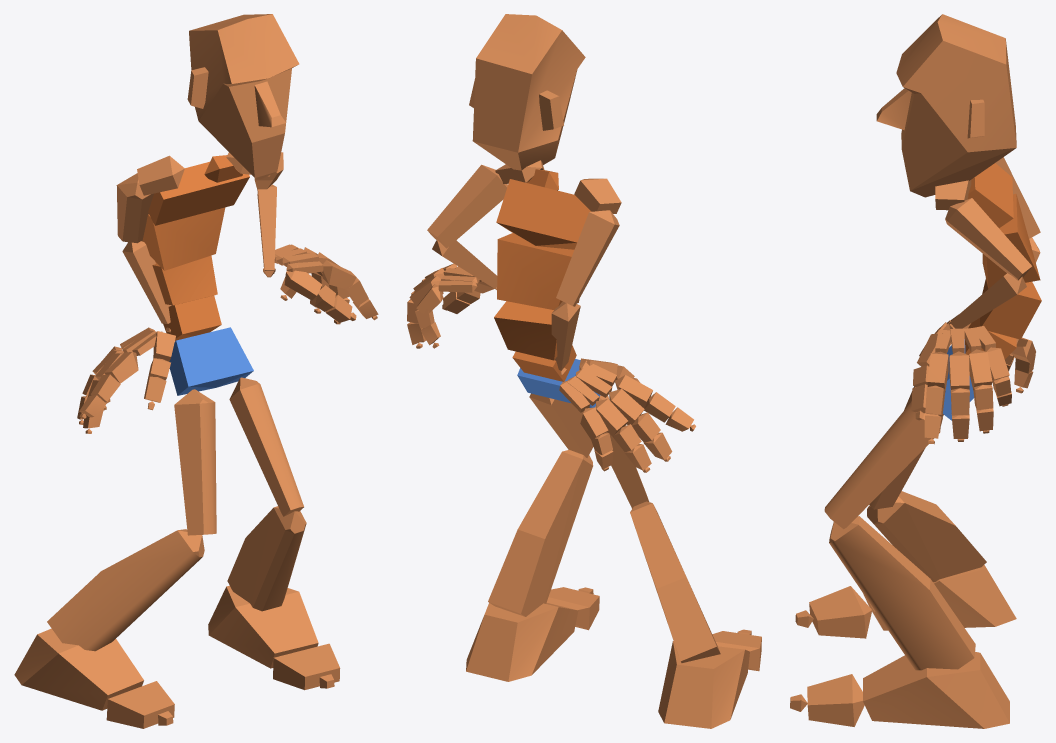
File: personaje38.obj
3 views of the same model, side by side, from view 1: azimuth 30°, elevation 25°; view 2: azimuth 150°, elevation 25°; view 3: azimuth 270°, elevation 25° (orthographic). The views are drawn at different scales.
Visible parts, largest first — view 1: BOPED_Head, BOPED_R_leg, BOPED_R_foot, BOPED_R_foot01, BOPED_L_leg, BOPED_R_legup, BOPED_L_legup, Bone01, Bone04, Bone05, Bone03, BOPED_R_foot_toe01 (+10 smaller); view 2: BOPED_Head, BOPED_L_leg, BOPED_R_foot01, BOPED_R_foot, BOPED_R_leg, Bone05, Bone04, BOPED_L_arm_upper, BOPED_R_arm_upper, Bone03, BOPED_L_legup, BOPED_R_arm_fore (+13 smaller); view 3: BOPED_Head, BOPED_L_leg, BOPED_R_foot01, BOPED_R_leg, BOPED_L_legup, BOPED_R_foot, BOPED_L_arm_upper, BOPED_R_foot_toe01, BOPED_R_foot_toe04, Bone05, Bone03, Bone04 (+13 smaller).
Boxes of the visible parts, bbox=[...] form: BOPED_Head: bbox=[187, 14, 299, 179]; BOPED_R_leg: bbox=[47, 529, 204, 651]; BOPED_R_foot: bbox=[14, 628, 143, 710]; BOPED_R_foot01: bbox=[208, 585, 318, 668]; BOPED_L_leg: bbox=[227, 506, 306, 611]; BOPED_R_legup: bbox=[174, 389, 216, 535]; BOPED_L_legup: bbox=[229, 377, 303, 516]; Bone01: bbox=[169, 327, 253, 395]; Bone04: bbox=[142, 207, 225, 270]; Bone05: bbox=[148, 161, 249, 225]; Bone03: bbox=[152, 255, 217, 305]; BOPED_R_foot_toe01: bbox=[106, 681, 174, 728]; BOPED_Head: bbox=[469, 14, 585, 170]; BOPED_L_leg: bbox=[488, 450, 593, 616]; BOPED_R_foot01: bbox=[466, 603, 578, 681]; BOPED_R_foot: bbox=[658, 641, 749, 728]; BOPED_R_leg: bbox=[630, 501, 720, 662]; Bone05: bbox=[496, 179, 590, 249]; Bone04: bbox=[497, 233, 579, 309]; BOPED_L_arm_upper: bbox=[427, 164, 507, 248]; BOPED_R_arm_upper: bbox=[556, 210, 619, 306]; Bone03: bbox=[494, 301, 557, 360]; BOPED_L_legup: bbox=[529, 393, 593, 457]; BOPED_R_arm_fore: bbox=[551, 301, 580, 370]; BOPED_Head: bbox=[876, 14, 1016, 197]; BOPED_L_leg: bbox=[829, 516, 975, 670]; BOPED_R_foot01: bbox=[863, 652, 1009, 728]; BOPED_R_leg: bbox=[867, 491, 986, 581]; BOPED_L_legup: bbox=[824, 402, 940, 529]; BOPED_R_foot: bbox=[863, 564, 1016, 630]; BOPED_L_arm_upper: bbox=[945, 198, 1032, 280]; BOPED_R_foot_toe01: bbox=[809, 586, 872, 638]; BOPED_R_foot_toe04: bbox=[807, 674, 864, 726]; Bone05: bbox=[967, 163, 1013, 227]; Bone03: bbox=[980, 279, 1041, 339]; Bone04: bbox=[982, 193, 1040, 288].
Bounding box in the file's own units: 94.19 × 169 × 56.5.
